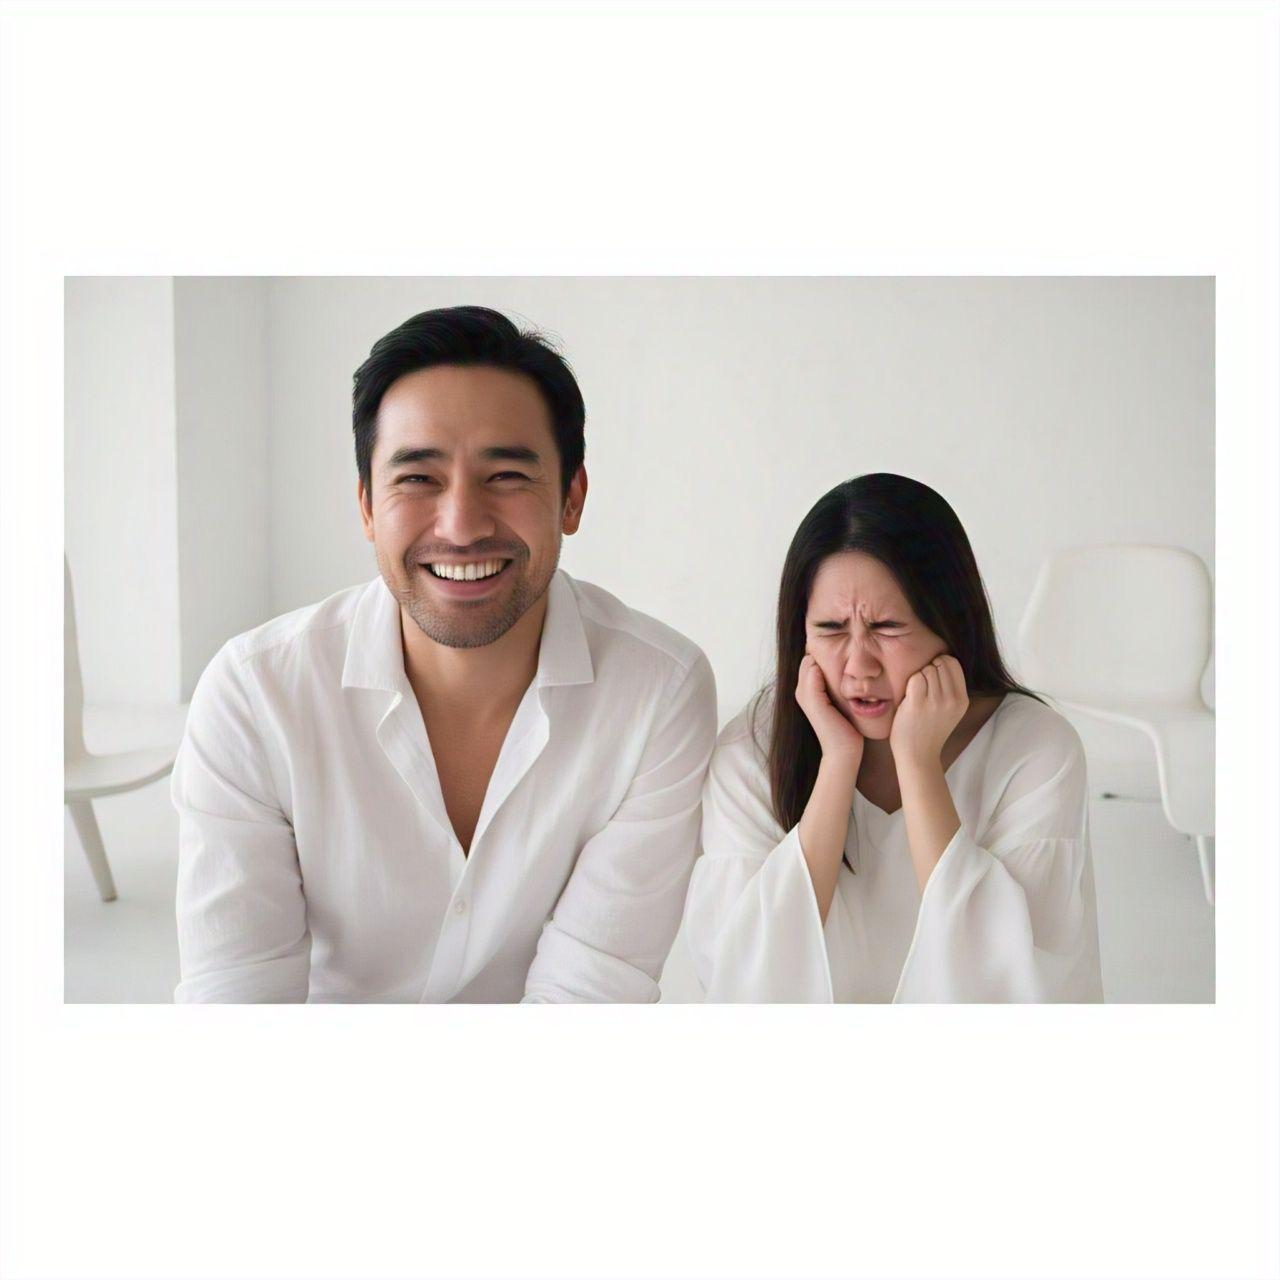feliz: (338, 338, 578, 642)
triste: (790, 526, 962, 765)
